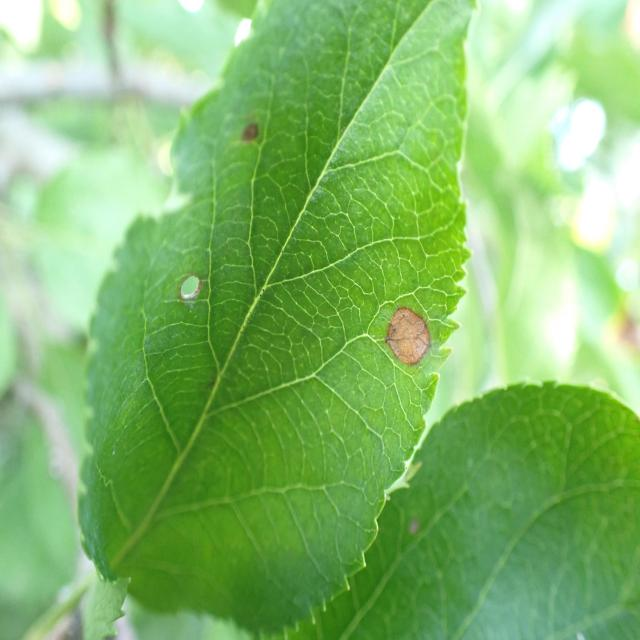Black Rot: (373, 303, 452, 370), (165, 261, 233, 312), (235, 103, 268, 156)
